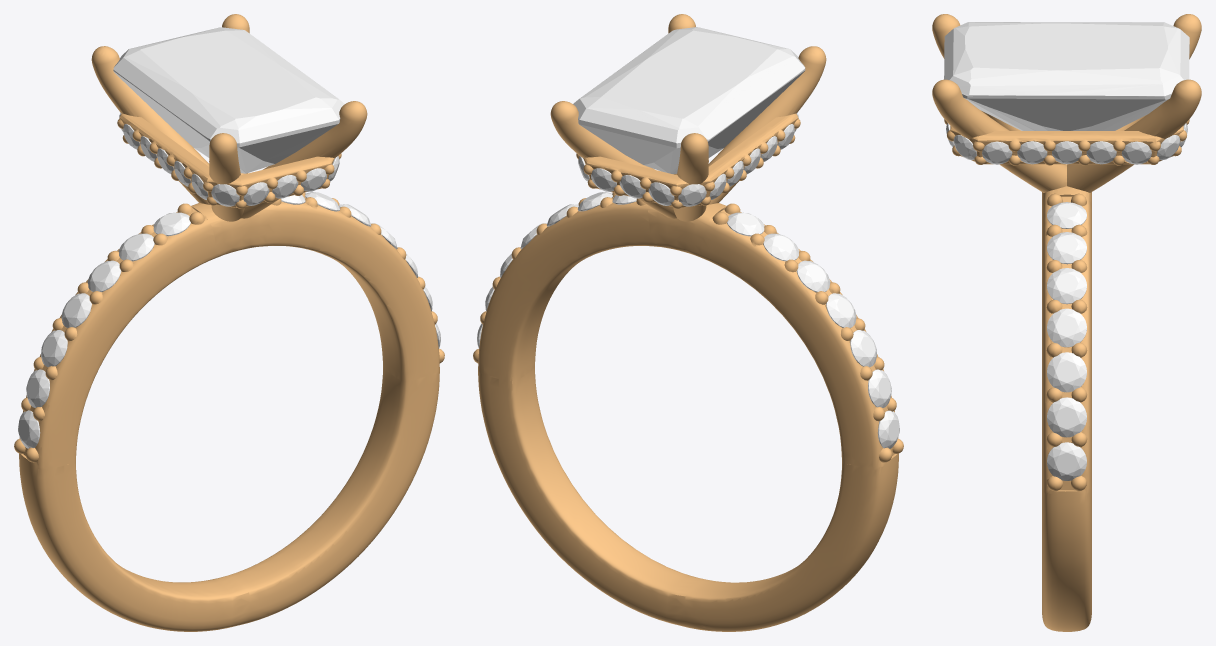
3 views of the same model, side by side, from view 1: azimuth 30°, elevation 25°; view 2: azimuth 150°, elevation 25°; view 3: azimuth 270°, elevation 25° (orthographic). The views are drawn at different scales.
Visible parts, largest first — view 1: object 1, 3Design CAD STL : part0 (×8); view 2: object 1, 3Design CAD STL : part0 (×8); view 3: 3Design CAD STL : part0 (×15), object 1.
Boxes of the visible parts, x1=… form: object 1: x1=14, y1=14, x2=444, y2=631; 3Design CAD STL : part0 (×8): x1=18, y1=27, x2=344, y2=448; object 1: x1=473, y1=14, x2=903, y2=631; 3Design CAD STL : part0 (×8): x1=573, y1=27, x2=899, y2=448; 3Design CAD STL : part0 (×15): x1=944, y1=22, x2=1189, y2=480; object 1: x1=932, y1=14, x2=1201, y2=631.
Bounding box in the file's own units: 2.36 × 2.96 × 1.29.
